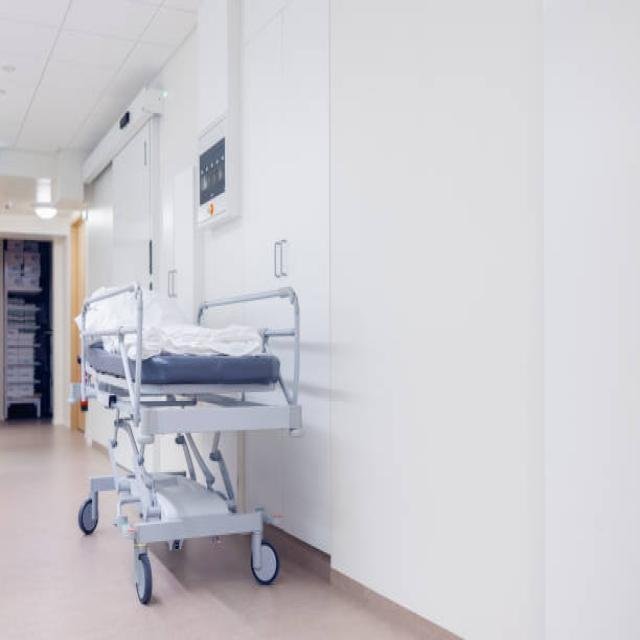bed: (75, 281, 304, 604)
